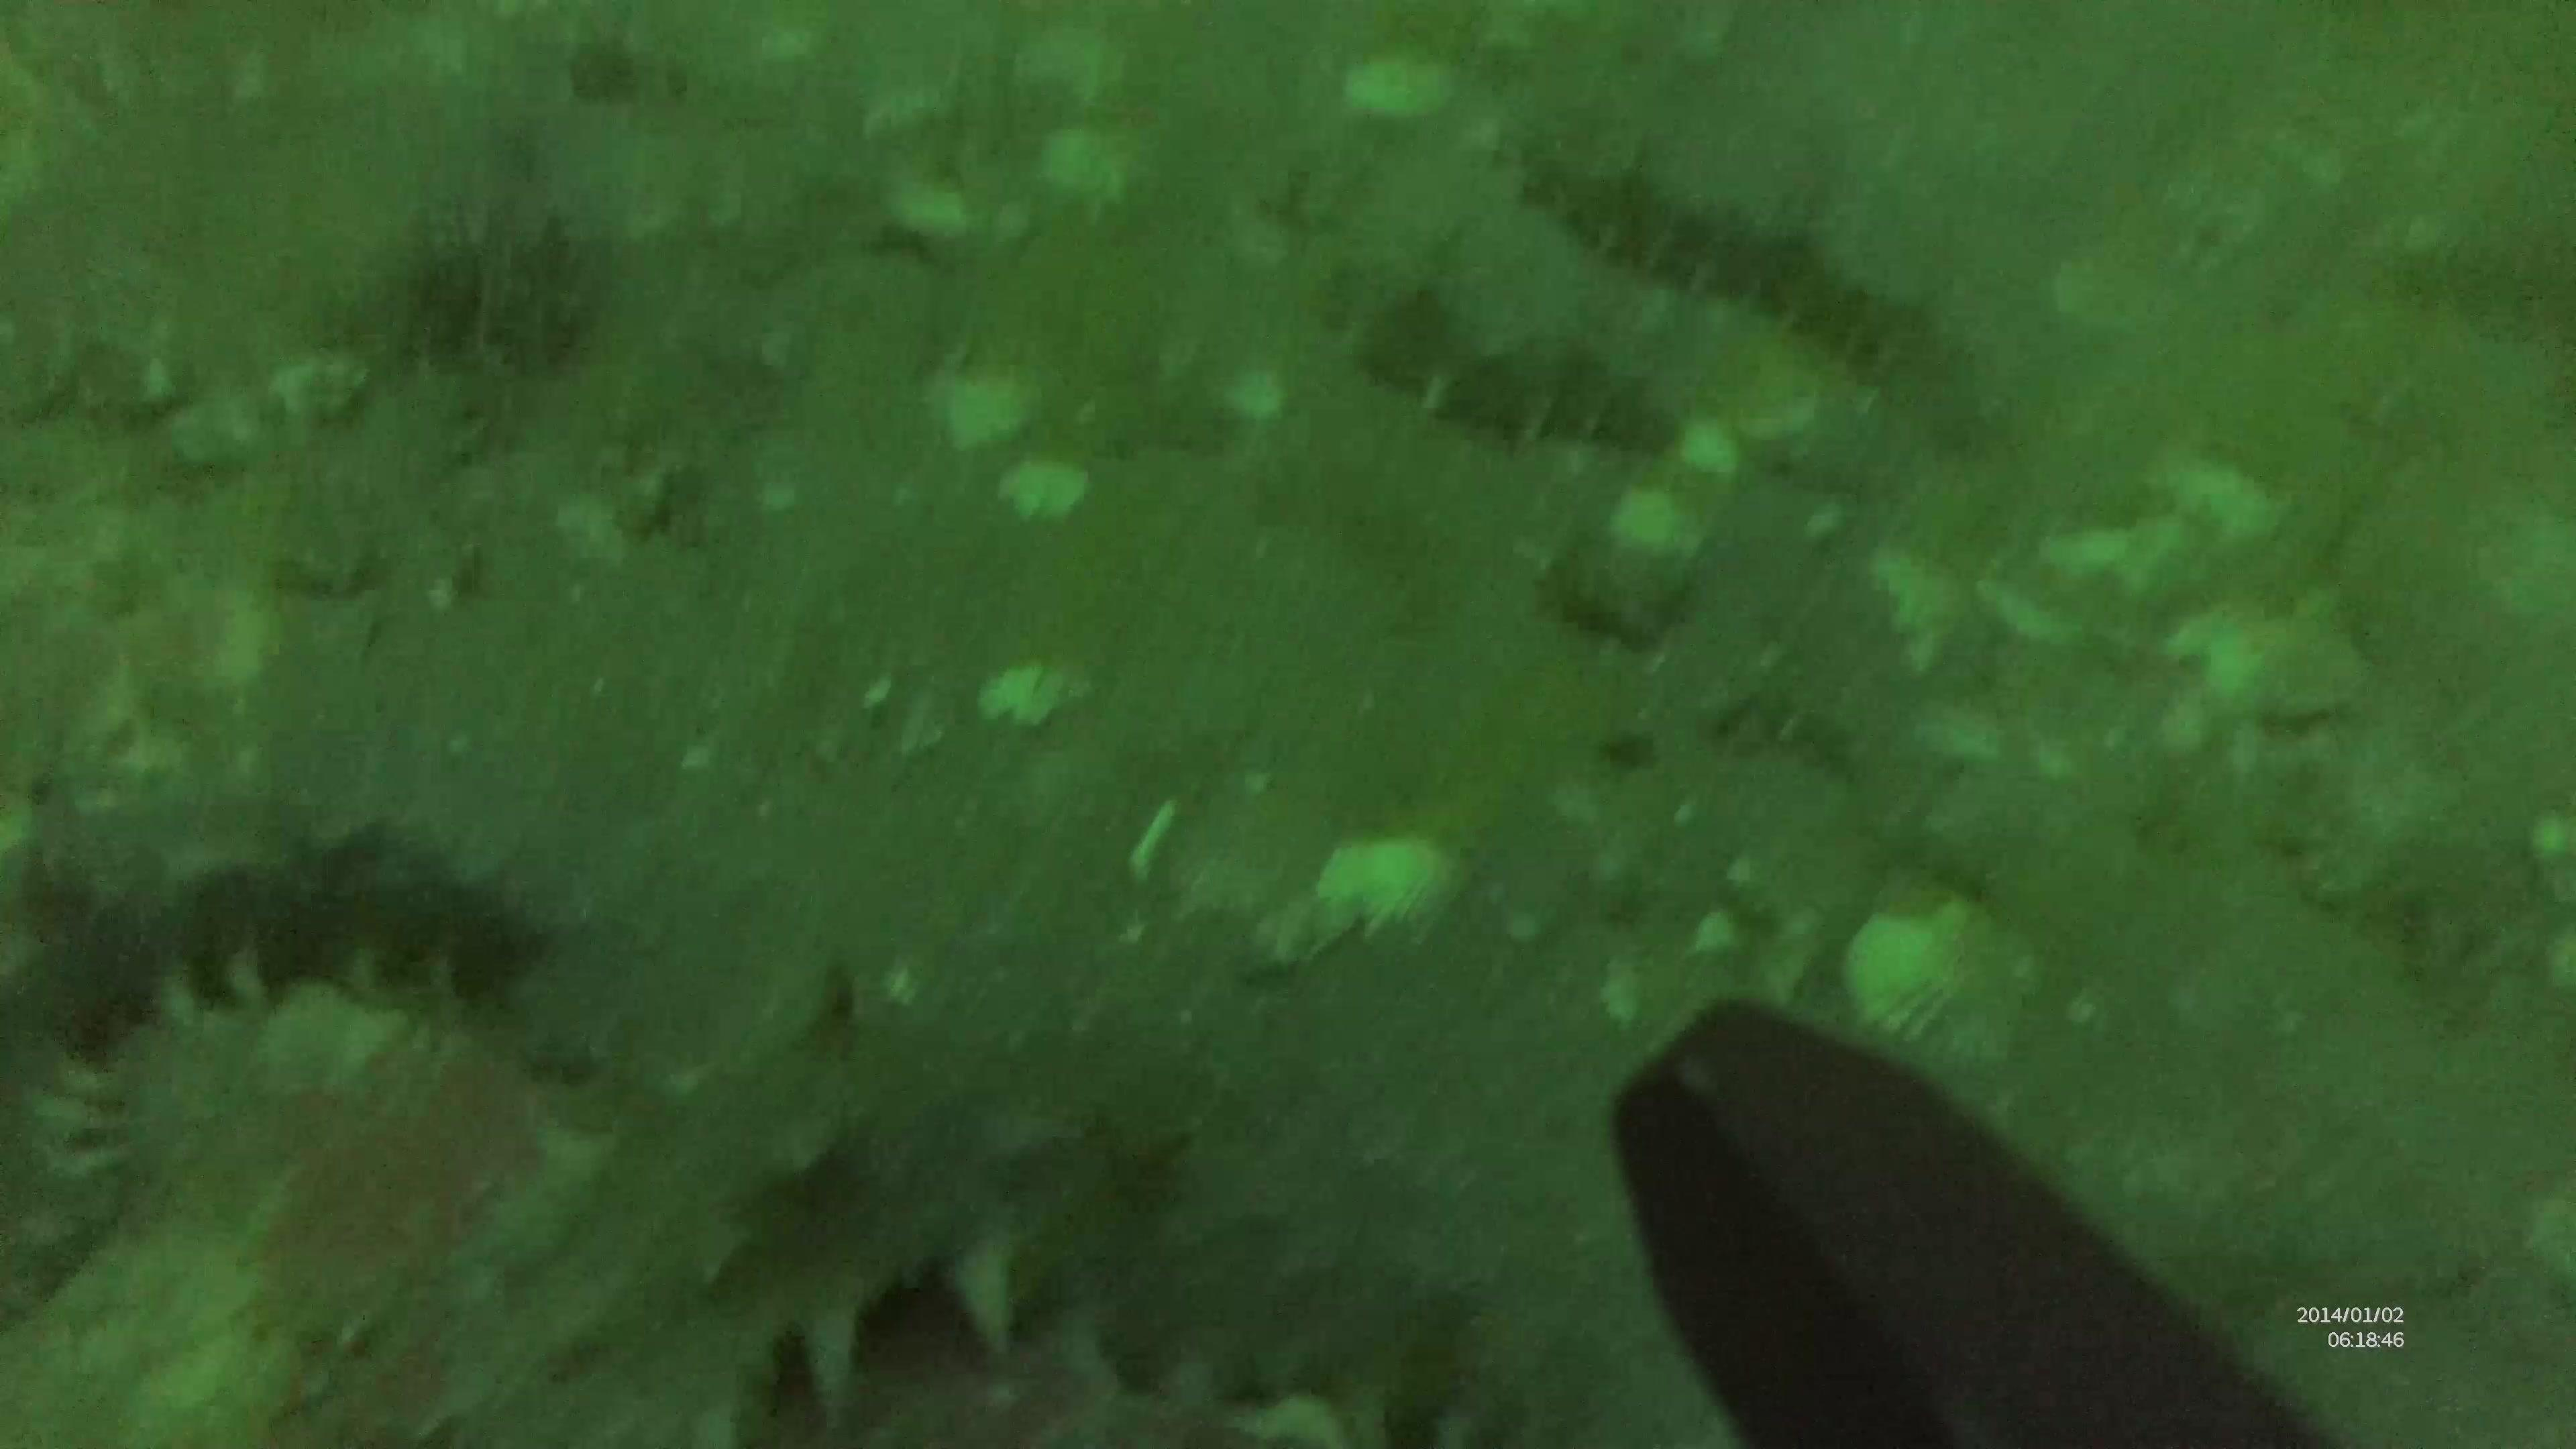holothurian: (428, 957, 1481, 1449), (0, 833, 547, 1307), (1525, 134, 1983, 387), (1336, 234, 1683, 462)
scallop: (1847, 883, 2049, 1070), (1339, 39, 1445, 111), (1743, 372, 1835, 439), (1672, 410, 1746, 483)
